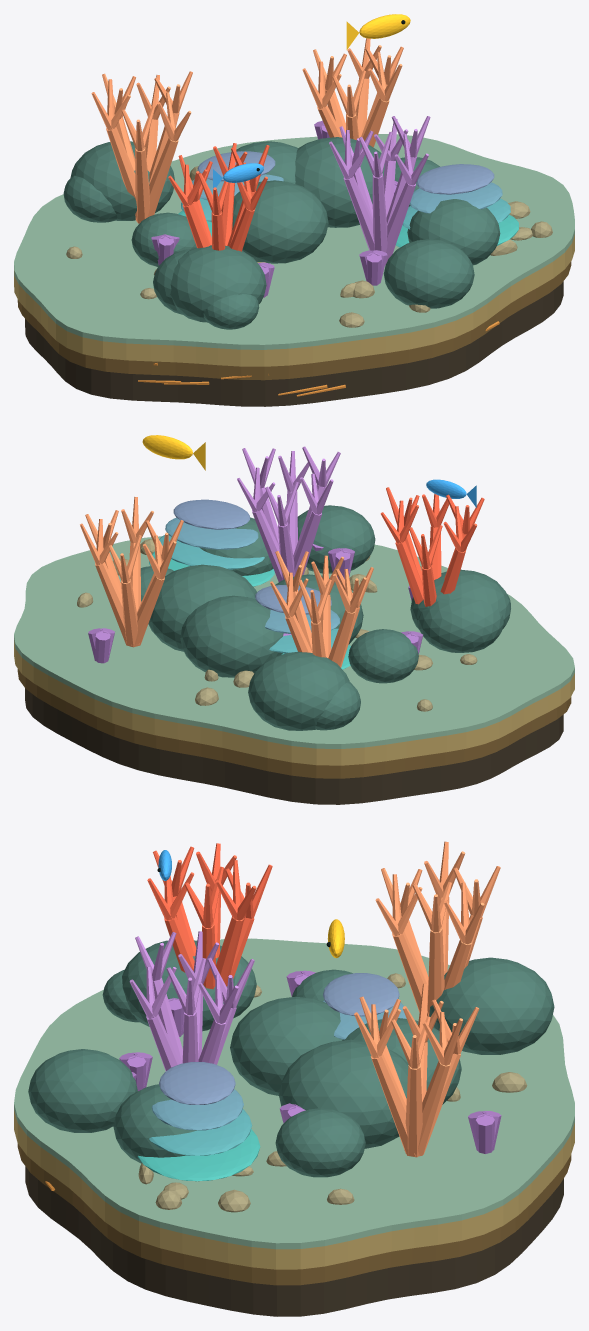
File: coral.glb
The picture shows the model from 3 angles, top to bottom: view 1: azimuth 30°, elevation 25°; view 2: azimuth 150°, elevation 25°; view 3: azimuth 270°, elevation 25°; orthographic projection. The views are drawn at different scales.
Visible parts, largest first — view 1: coral habitat; view 2: coral habitat; view 3: coral habitat.
Boxes of the visible parts, bbox=[...] form: coral habitat: bbox=[14, 14, 574, 406]; coral habitat: bbox=[14, 435, 574, 804]; coral habitat: bbox=[14, 841, 574, 1316].
Size of the model in its own units: 1.8 by 0.8586 by 1.4.
1 material, 1 textured.
